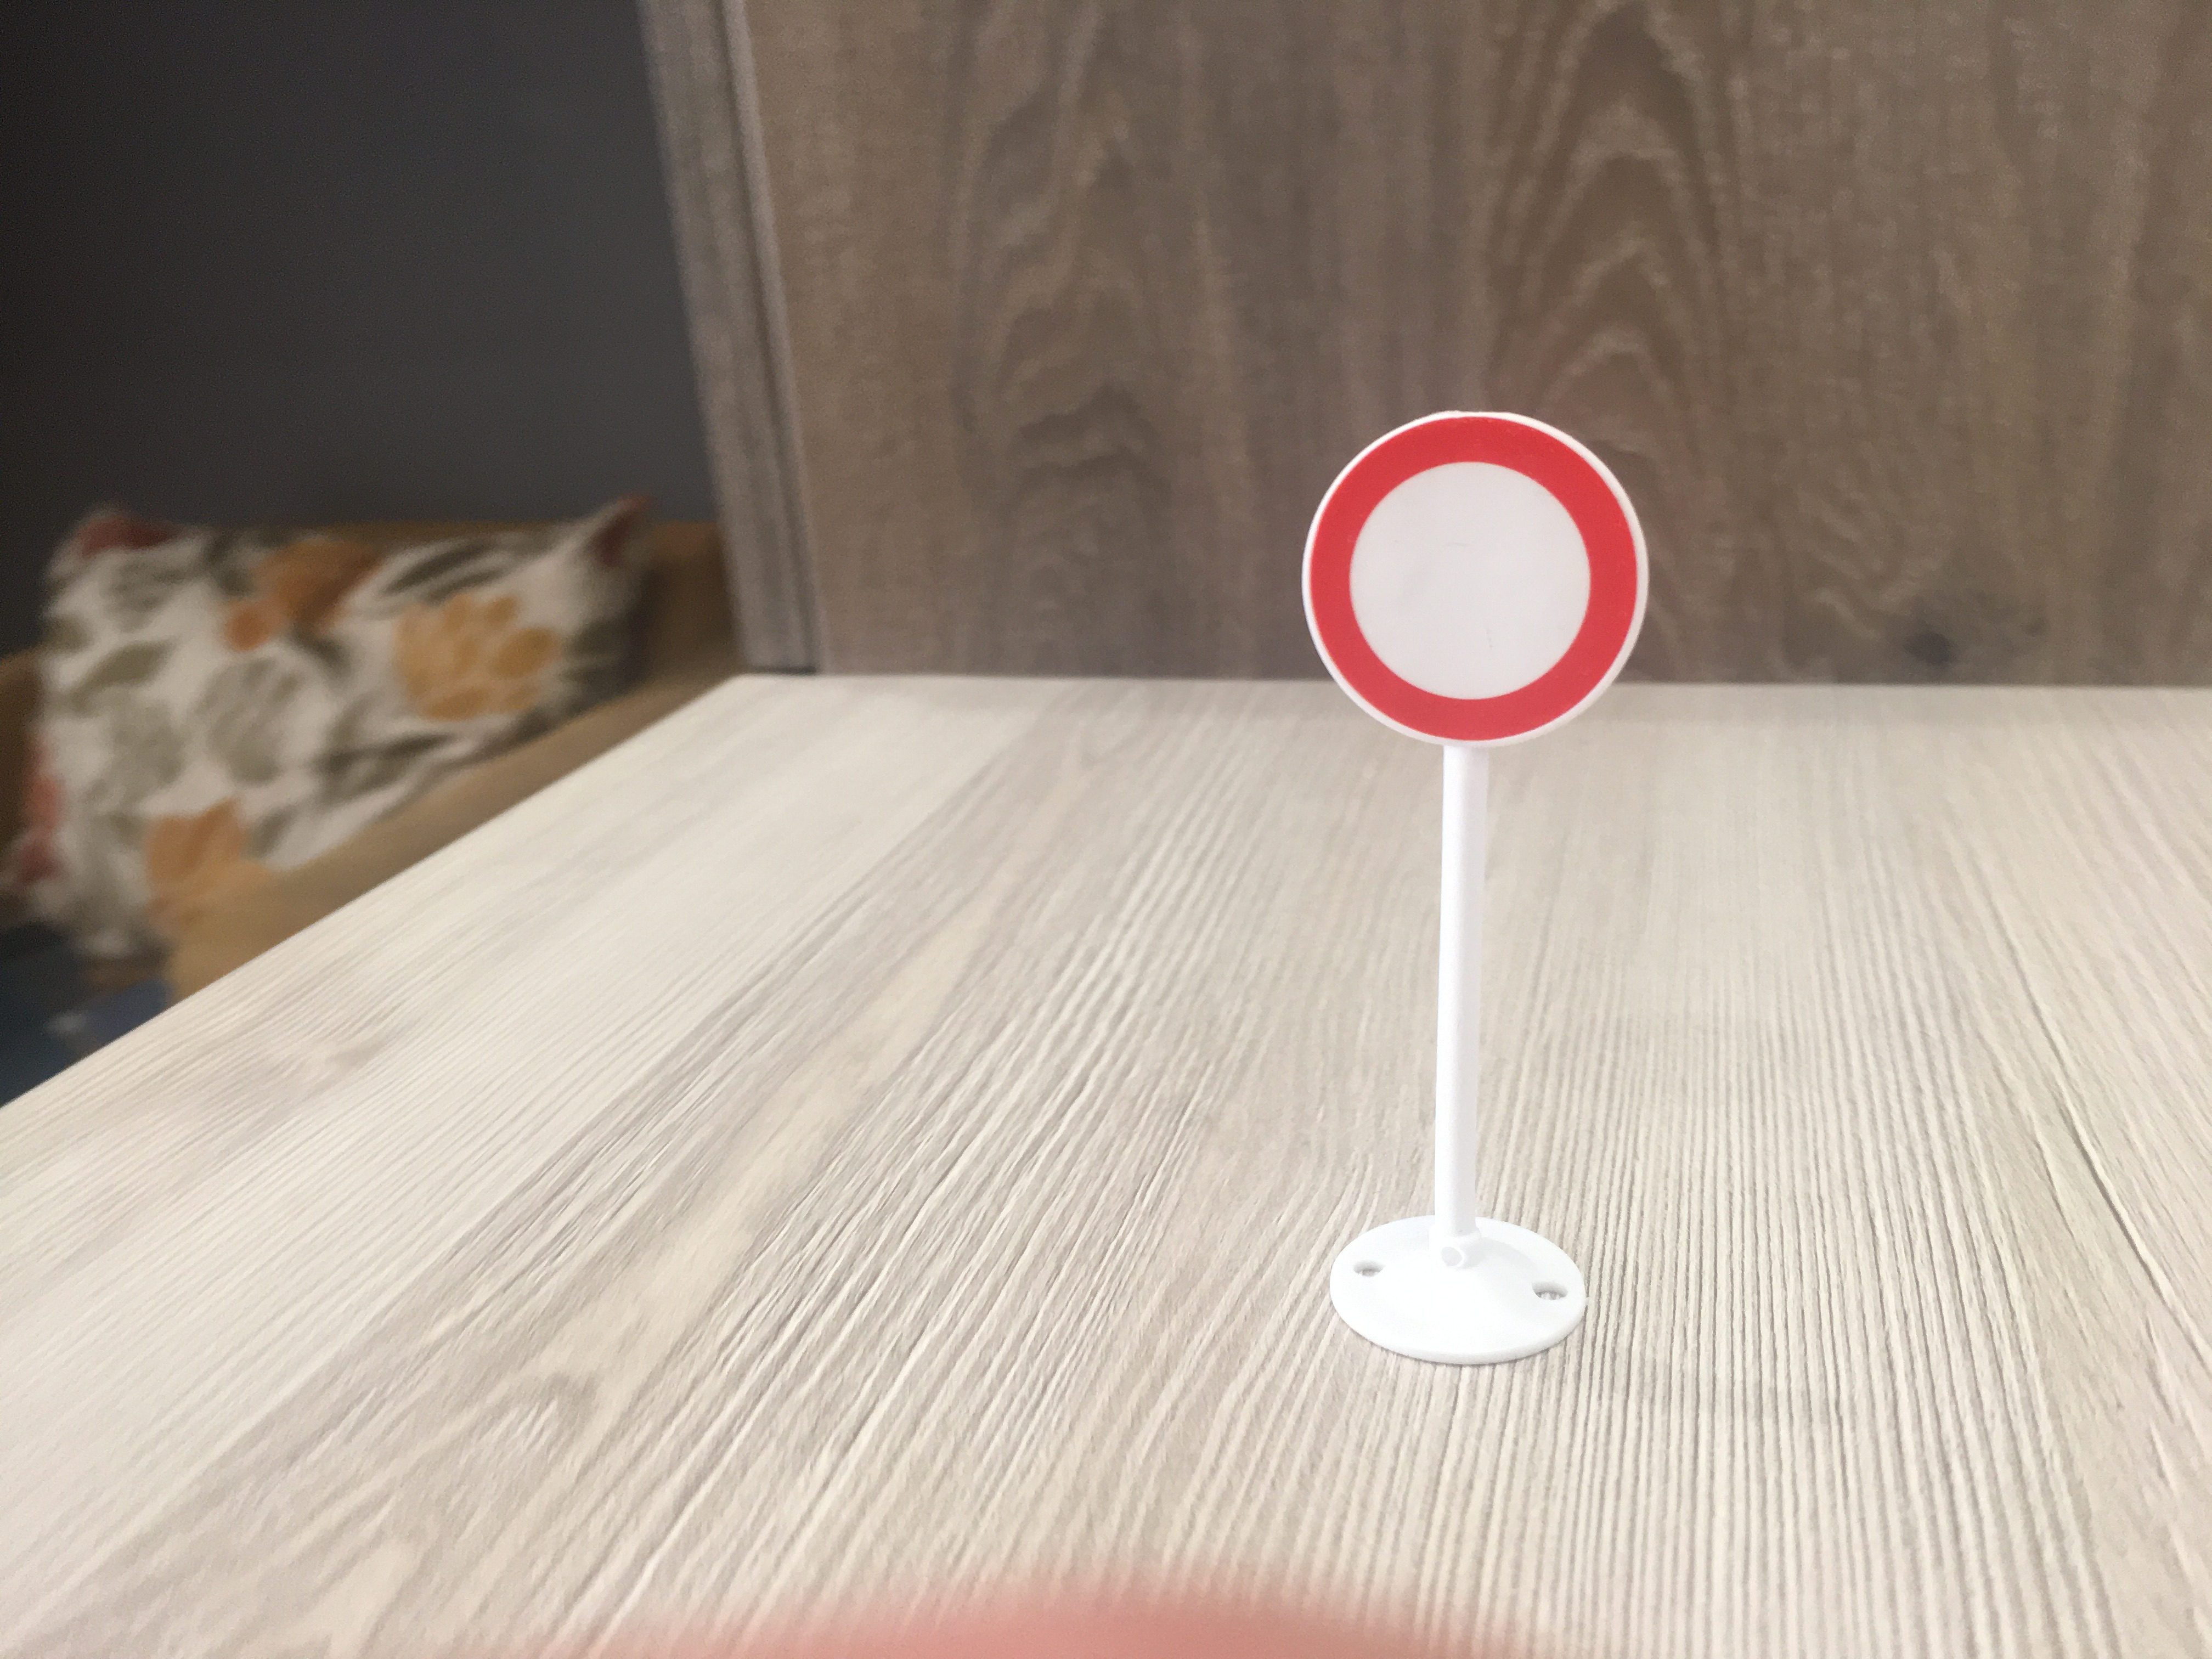noDrive: (1298, 411, 1653, 748)
